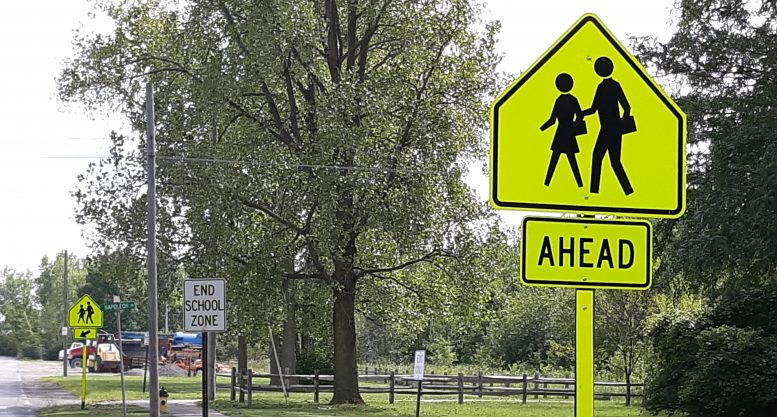slow: (486, 13, 689, 219), (67, 293, 104, 328)
